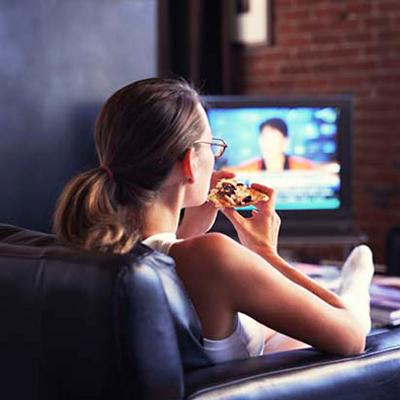person: (56, 77, 375, 365)
